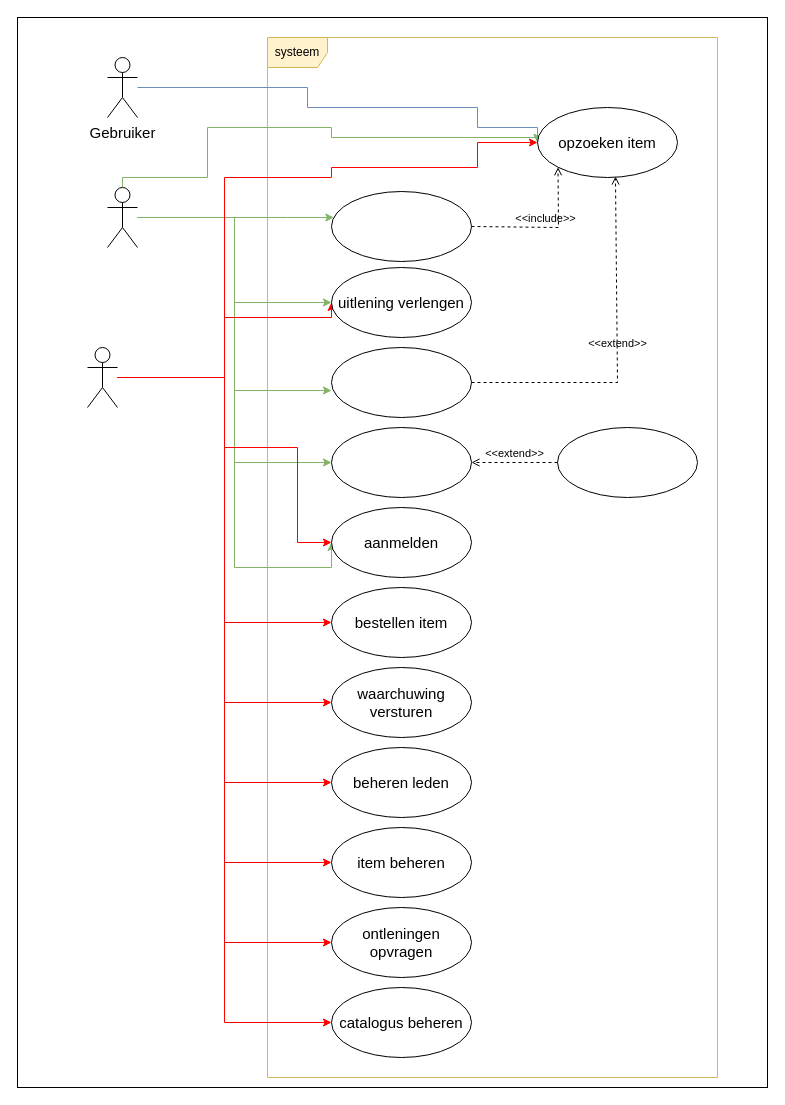
Image size: 785x1105. Some labels were removed from this diagram. The shapes that lost their labels are listed below. From the top down, each one's centre as x and y in pixels, then its label:
At [122,217]: "Lid".
At [401,226]: "lenen item".
At [102,377]: "Bibliothecaris".
At [401,382]: "reserveren item".
At [401,462]: "retouneren item".
At [627,462]: "betalen boete".
